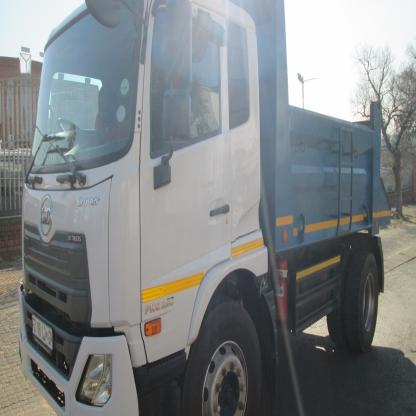dump_truck: (12, 2, 398, 416)
